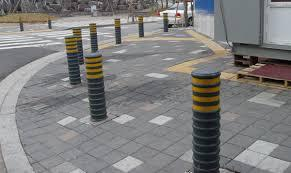Animal: (183, 60, 219, 173), (86, 53, 106, 114), (59, 34, 80, 87)
